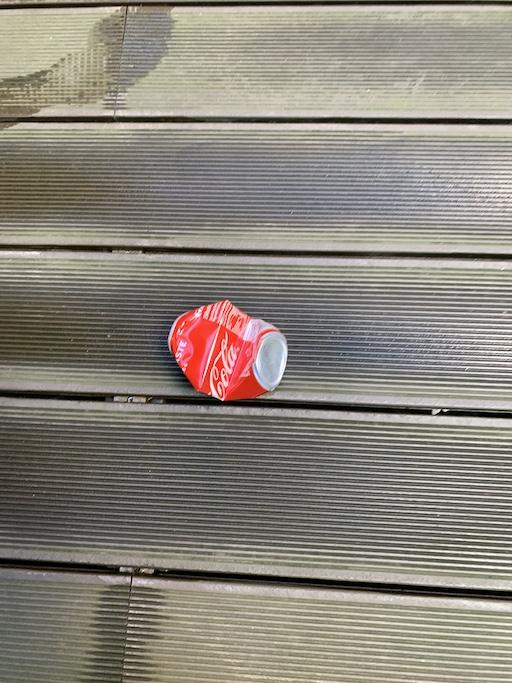Aluminum can: (160, 292, 314, 408)
